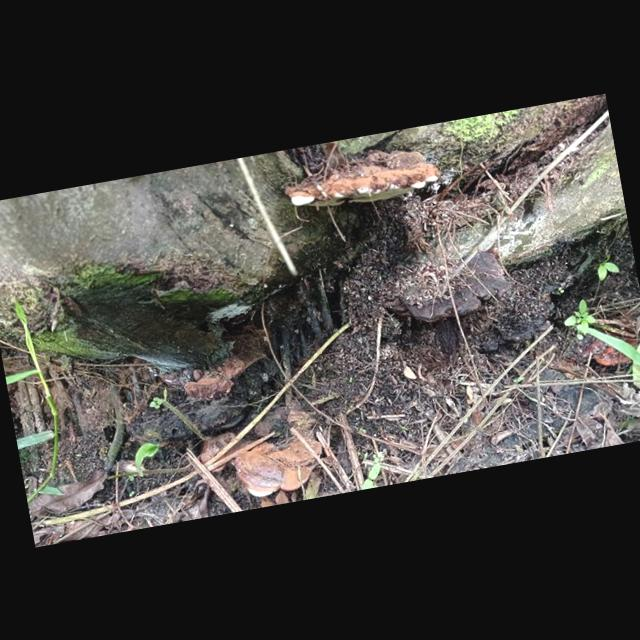ganoderma: (280, 140, 446, 219), (393, 246, 519, 331), (176, 326, 282, 406), (232, 433, 331, 502), (565, 330, 640, 375), (197, 429, 244, 476)
